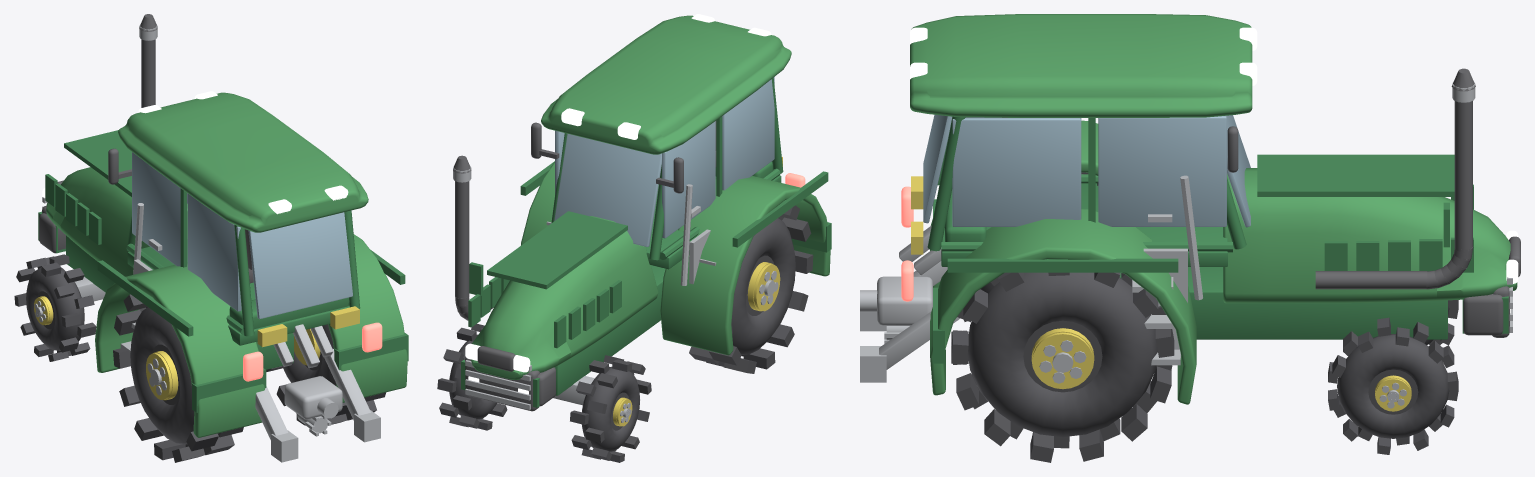
File: th18_traktor.glb
3 views of the same model, side by side, from view 1: azimuth 30°, elevation 25°; view 2: azimuth 150°, elevation 25°; view 3: azimuth 270°, elevation 25° (orthographic). The views are drawn at different scales.
Visible parts, largest first — view 1: Karosserie.001, Kotfluegel, Cube.129, Kotfluegel.001, Karosserie, Torus, Cube.131, Cube.130, Torus.001, Cube.111, Cube.170, Cube.092 (+28 smaller); view 2: Karosserie.001, Kotfluegel, Karosserie, Cube.128, Cube.111, Torus, Cube.131, Cube.130, Cube.092, Torus.001, Cylinder.085, Kotfluegel.001 (+22 smaller); view 3: Karosserie.001, Karosserie, Torus.002, Cube.139, Cube.138, Kotfluegel.001, Cube.092, Cube.111, Torus.003, Cube.126, Cylinder.085, Cube.170 (+24 smaller).
Part boxes in pixels (x1,y1,x2,y2): Karosserie.001: [118, 92, 368, 232]; Kotfluegel: [95, 262, 264, 437]; Cube.129: [248, 212, 352, 318]; Kotfluegel.001: [328, 234, 407, 402]; Karosserie: [46, 167, 187, 276]; Torus: [130, 307, 194, 444]; Cube.131: [187, 193, 241, 311]; Cube.130: [132, 152, 180, 266]; Torus.001: [26, 267, 84, 350]; Cube.111: [64, 130, 131, 196]; Cube.170: [284, 376, 342, 419]; Cube.092: [66, 235, 293, 369]; Karosserie.001: [541, 15, 791, 154]; Kotfluegel: [660, 176, 830, 355]; Karosserie: [471, 216, 658, 379]; Cube.128: [554, 133, 661, 246]; Cube.111: [487, 211, 627, 289]; Torus: [731, 218, 795, 354]; Cube.131: [722, 77, 774, 190]; Cube.130: [662, 121, 715, 238]; Cube.092: [555, 265, 665, 395]; Torus.001: [582, 366, 639, 451]; Cylinder.085: [455, 181, 469, 299]; Kotfluegel.001: [521, 162, 554, 245]; Karosserie.001: [910, 14, 1252, 117]; Karosserie: [1223, 168, 1517, 303]; Torus.002: [967, 272, 1157, 437]; Cube.139: [952, 118, 1081, 226]; Cube.138: [1098, 116, 1226, 226]; Kotfluegel.001: [930, 209, 1196, 404]; Cube.092: [1119, 267, 1447, 339]; Cube.111: [1257, 154, 1454, 196]; Torus.003: [1337, 334, 1449, 438]; Cube.126: [947, 258, 1178, 272]; Cylinder.085: [1454, 101, 1472, 251]; Cube.170: [877, 276, 932, 325].
Bounding box in the file's own units: 2.62 × 3.34 × 5.44.
